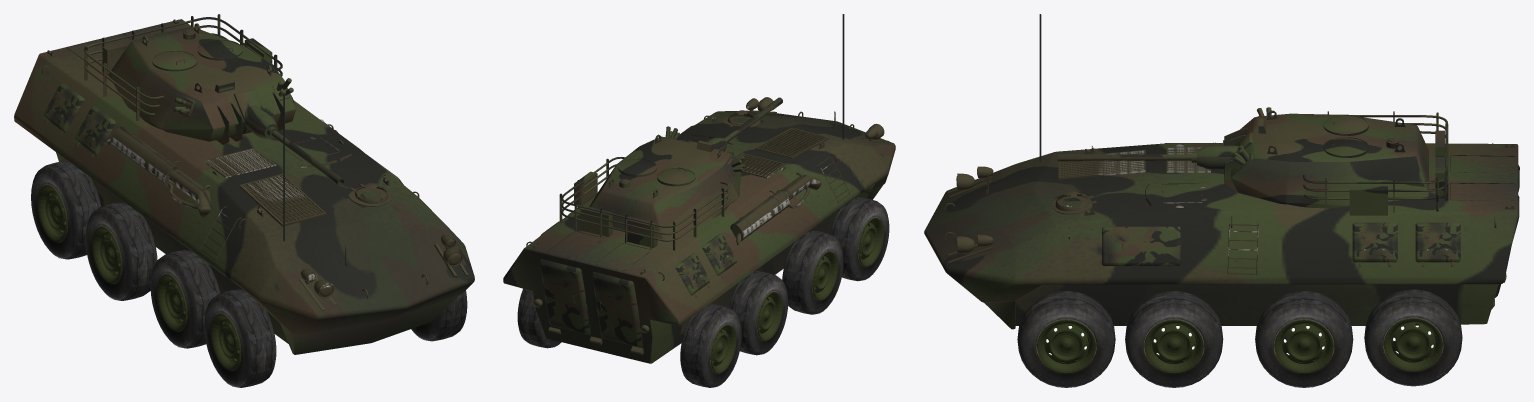
File: lav_25.fbx
3 views of the same model, side by side, from view 1: azimuth 30°, elevation 25°; view 2: azimuth 150°, elevation 25°; view 3: azimuth 270°, elevation 25° (orthographic). The views are drawn at different scales.
Visible parts, largest first — view 1: chassis, chassis_vhacd, turret, rtire_0, rtire_2, rtire_3, rtire_1, ltire_0, canon, torret_convexhull; view 2: chassis, turret, chassis_vhacd, rtire_3, rtire_1, rtire_2, rtire_0, ltire_3, canon, torret_convexhull, antena; view 3: chassis_vhacd, chassis, turret, ltire_3, ltire_0, ltire_2, ltire_1, canon_convexhull, canon, torret_convexhull.
Boxes of the visible parts, bbox=[...] form: chassis: bbox=[14, 19, 474, 354]; chassis_vhacd: bbox=[15, 19, 474, 354]; turret: bbox=[84, 14, 295, 144]; rtire_0: bbox=[204, 289, 276, 387]; rtire_2: bbox=[85, 202, 157, 300]; rtire_3: bbox=[31, 160, 101, 259]; rtire_1: bbox=[150, 249, 220, 348]; ltire_0: bbox=[411, 290, 467, 341]; canon: bbox=[244, 105, 343, 184]; torret_convexhull: bbox=[129, 81, 295, 141]; chassis: bbox=[503, 97, 895, 363]; turret: bbox=[559, 126, 745, 250]; chassis_vhacd: bbox=[503, 111, 895, 363]; rtire_3: bbox=[680, 303, 741, 387]; rtire_1: bbox=[782, 230, 843, 314]; rtire_2: bbox=[729, 271, 788, 355]; rtire_0: bbox=[830, 197, 889, 281]; ltire_3: bbox=[517, 288, 561, 348]; canon: bbox=[707, 98, 782, 151]; torret_convexhull: bbox=[621, 164, 741, 234]; antena: bbox=[842, 14, 844, 139]; chassis_vhacd: bbox=[924, 175, 1518, 329]; chassis: bbox=[927, 140, 1519, 327]; turret: bbox=[1224, 107, 1448, 215]; ltire_3: bbox=[1364, 289, 1462, 386]; ltire_0: bbox=[1017, 291, 1115, 387]; ltire_2: bbox=[1255, 291, 1353, 387]; ltire_1: bbox=[1125, 291, 1223, 387]; canon_convexhull: bbox=[1058, 151, 1231, 169]; canon: bbox=[1070, 145, 1238, 159]; torret_convexhull: bbox=[1231, 143, 1346, 205].
Bounding box in the file's own units: 2653 × 6182 × 3336.
6 materials, 4 textured.
